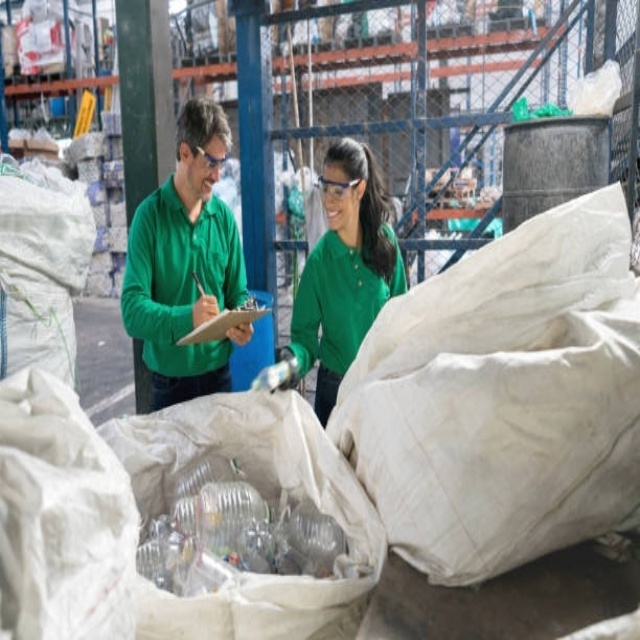Gafas: (315, 177, 361, 203), (190, 142, 228, 169)
Sin_guantes: (192, 289, 223, 329), (226, 317, 252, 347)
Sin_mascara: (322, 202, 346, 227), (195, 176, 218, 201)
